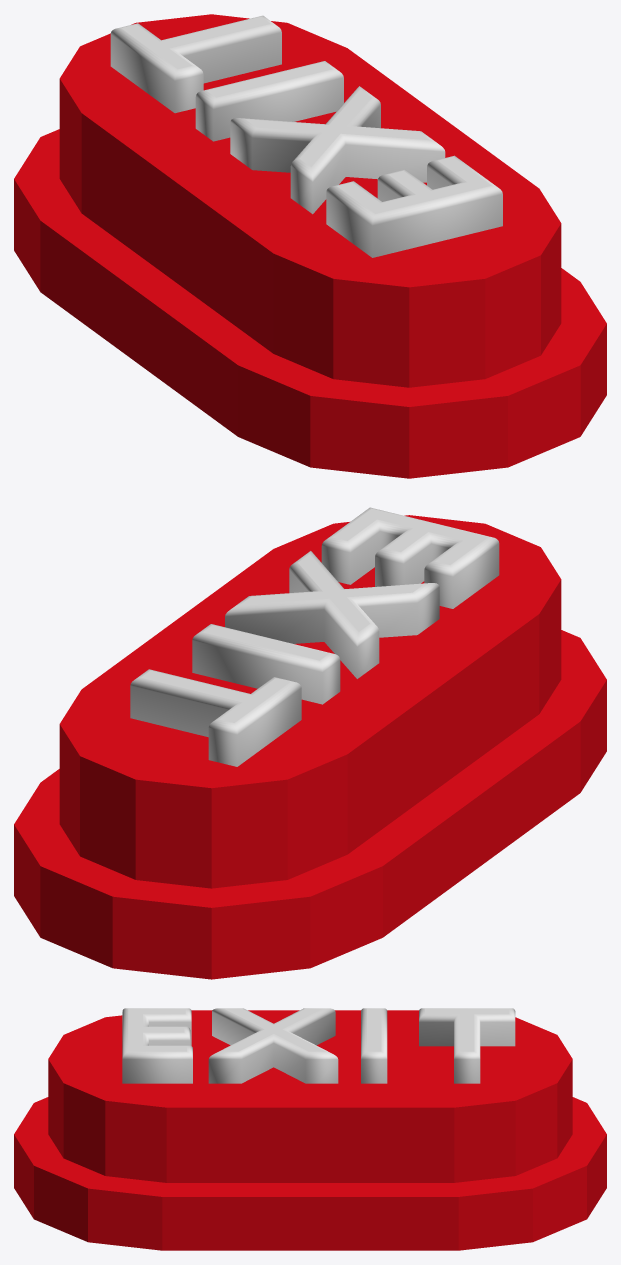
File: exit_button.glb
3 views of the same model, one above another, from view 1: azimuth 30°, elevation 25°; view 2: azimuth 150°, elevation 25°; view 3: azimuth 270°, elevation 25° (orthographic). The views are drawn at different scales.
Visible parts, largest first — view 1: Cylinder, Text; view 2: Cylinder, Text; view 3: Cylinder, Text.
Boxes of the visible parts, bbox=[...] form: Cylinder: bbox=[14, 14, 606, 478]; Text: bbox=[110, 15, 502, 257]; Cylinder: bbox=[14, 515, 606, 979]; Text: bbox=[130, 507, 499, 766]; Cylinder: bbox=[14, 1010, 606, 1250]; Text: bbox=[122, 1008, 515, 1083].
Size of the model in its own units: 2 by 1.18 by 4.
